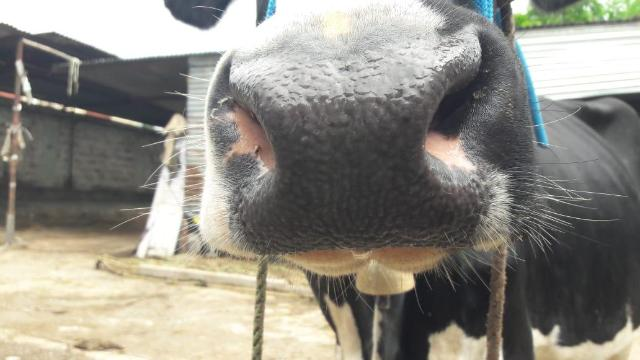Muzzle: (234, 60, 474, 246)
